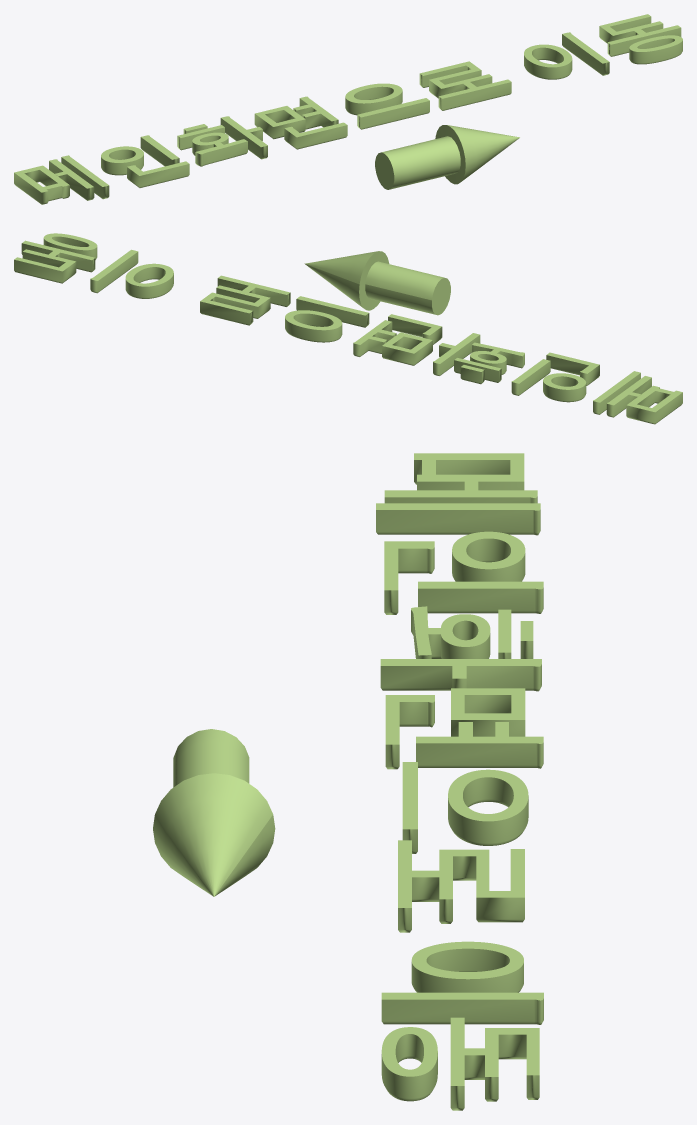
The model's file is mainmove.gltf.
3 renders of one model, top to bottom at view 1: azimuth 30°, elevation 25°; view 2: azimuth 150°, elevation 25°; view 3: azimuth 270°, elevation 25°, orthographic. The views are drawn at different scales.
Visible parts, largest first — view 1: Text001, Cone001; view 2: Text001, Cone001; view 3: Text001, Cone001.
Part boxes in pixels (bbox=[...]): Text001: bbox=[14, 14, 682, 204]; Cone001: bbox=[375, 125, 519, 189]; Text001: bbox=[14, 233, 682, 424]; Cone001: bbox=[304, 251, 450, 315]; Text001: bbox=[376, 453, 543, 1110]; Cone001: bbox=[153, 729, 275, 896].
Size of the model in its own units: 3.11 by 0.2542 by 0.8122.
